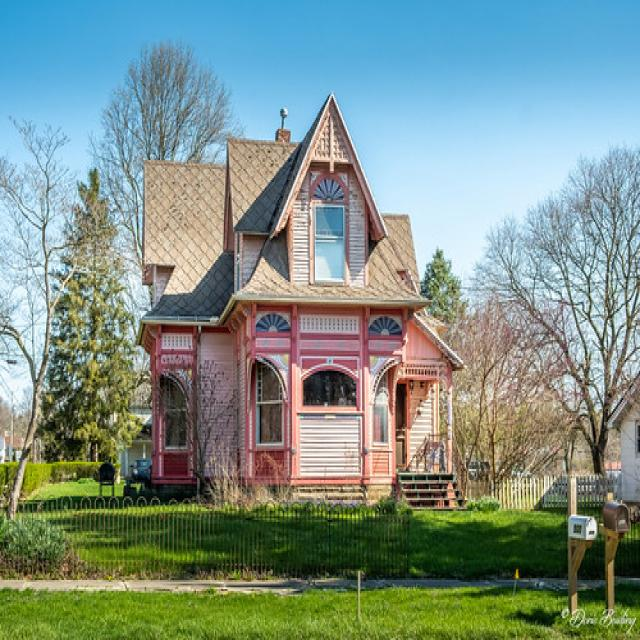building: (133, 86, 466, 514)
